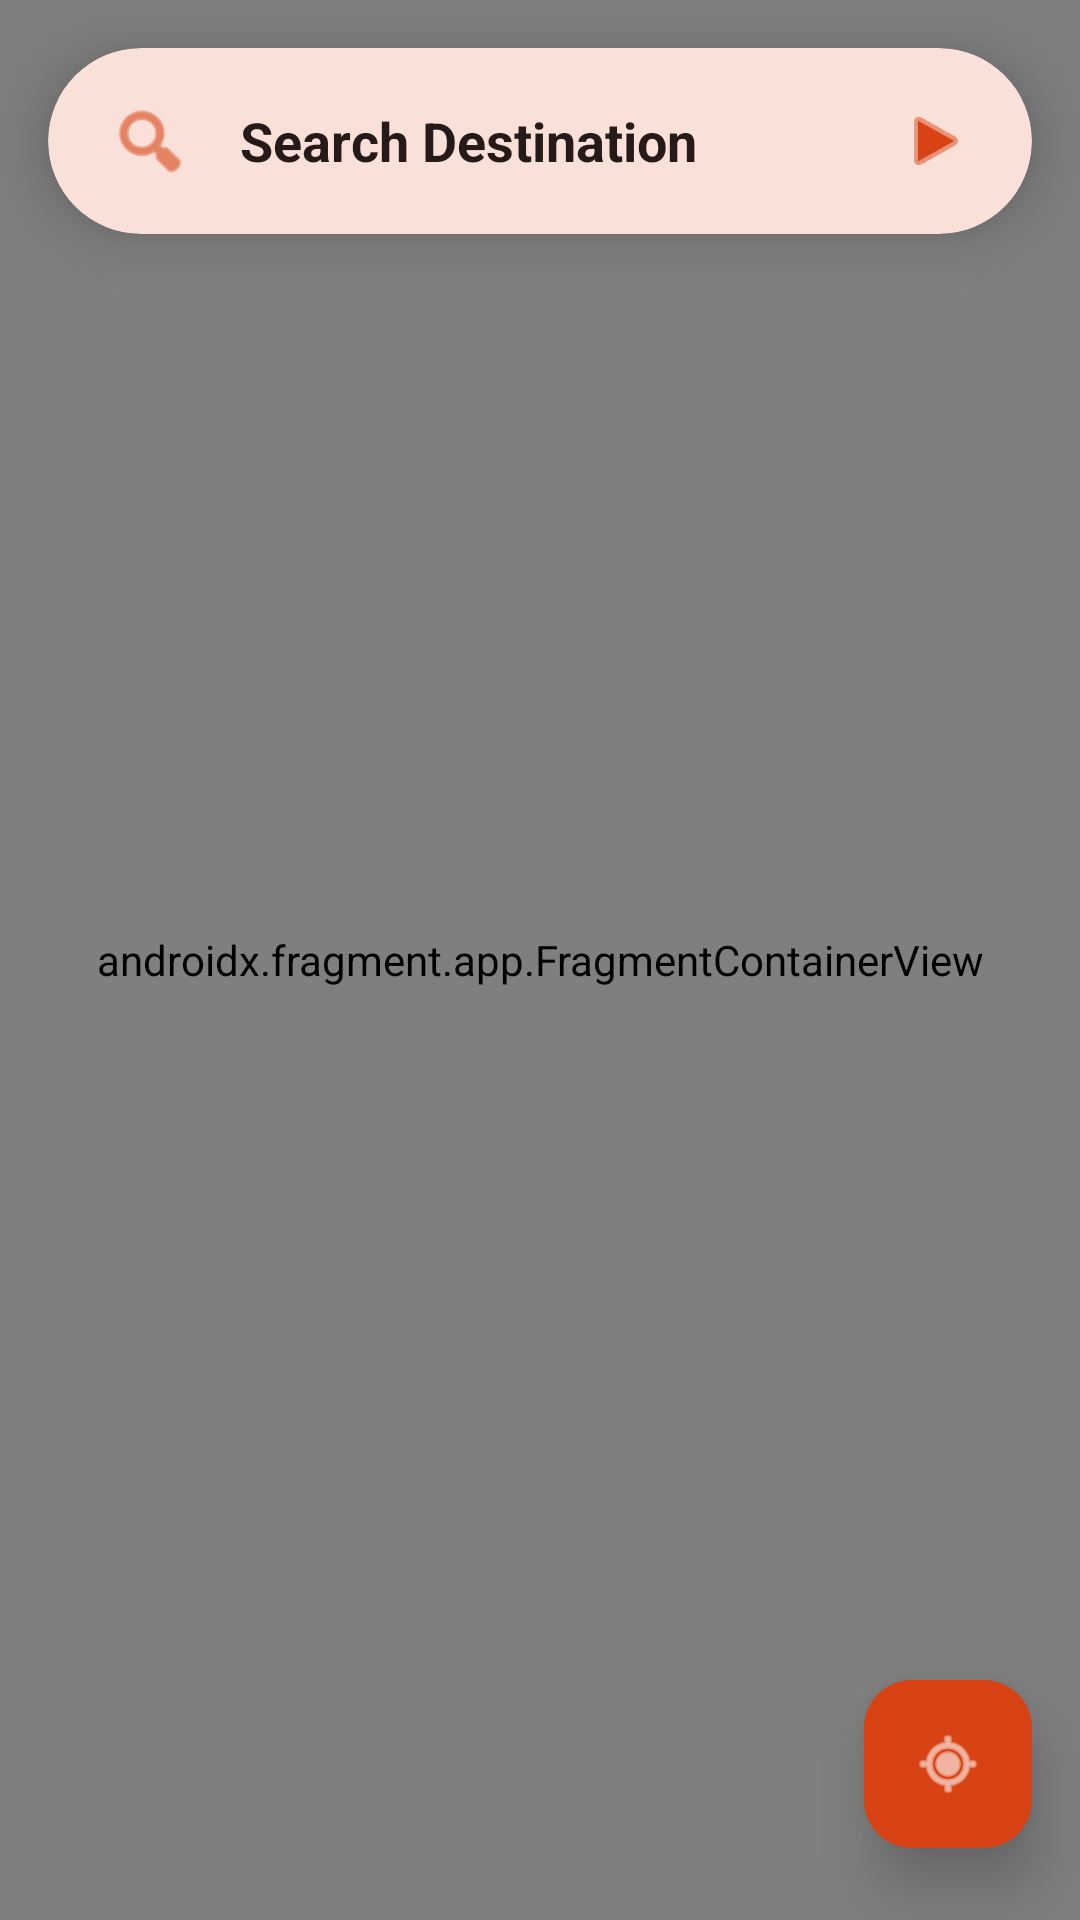

Locate icon controls on the screen. Image size 1080×1920, boxes as region(x1, y1, x2, y2).
My Location: region(864, 1680, 1032, 1848)
Quick Start: region(914, 117, 958, 165)
